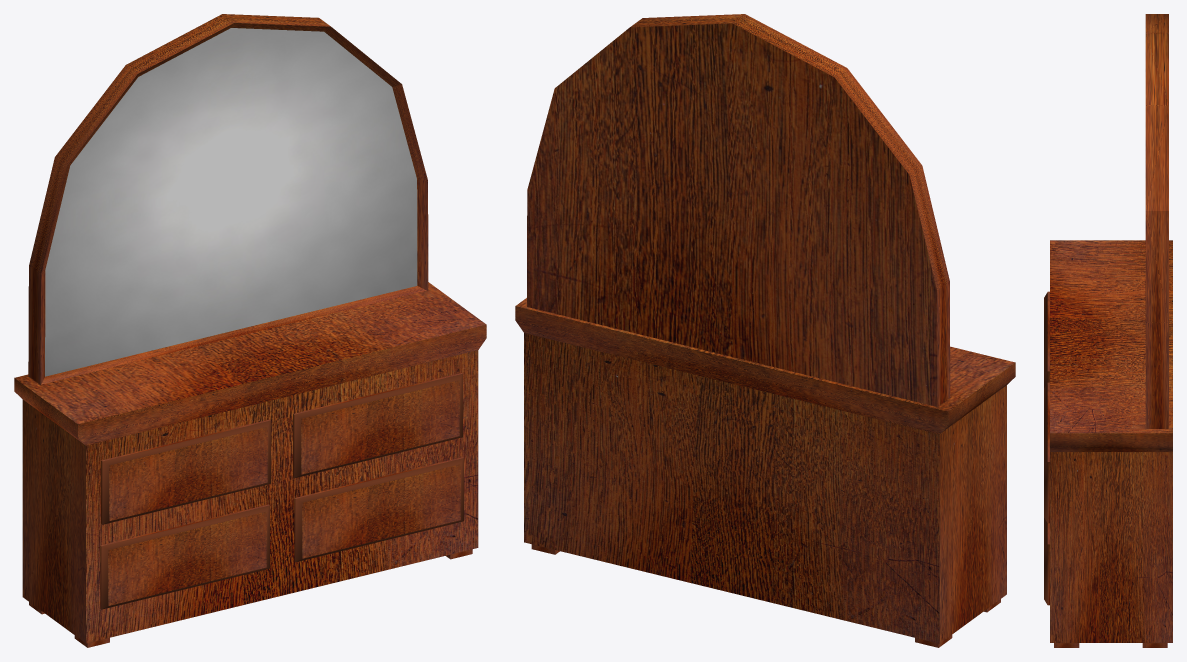
The model's file is dresser.obj.
The picture shows the model from 3 angles, left to right: view 1: azimuth 30°, elevation 25°; view 2: azimuth 150°, elevation 25°; view 3: azimuth 270°, elevation 25°; orthographic projection. The views are drawn at different scales.
Visible parts, largest first — view 1: br_wood, br_mirror; view 2: br_wood; view 3: br_wood.
Part boxes in pixels (<box>): br_wood: <box>14,14,486,647</box>; br_mirror: <box>45,28,417,376</box>; br_wood: <box>515,14,1015,647</box>; br_wood: <box>1044,14,1172,647</box>.
Size of the model in its own units: 38.94 by 49.45 by 11.
Materials: 2 (2 with a texture image).
